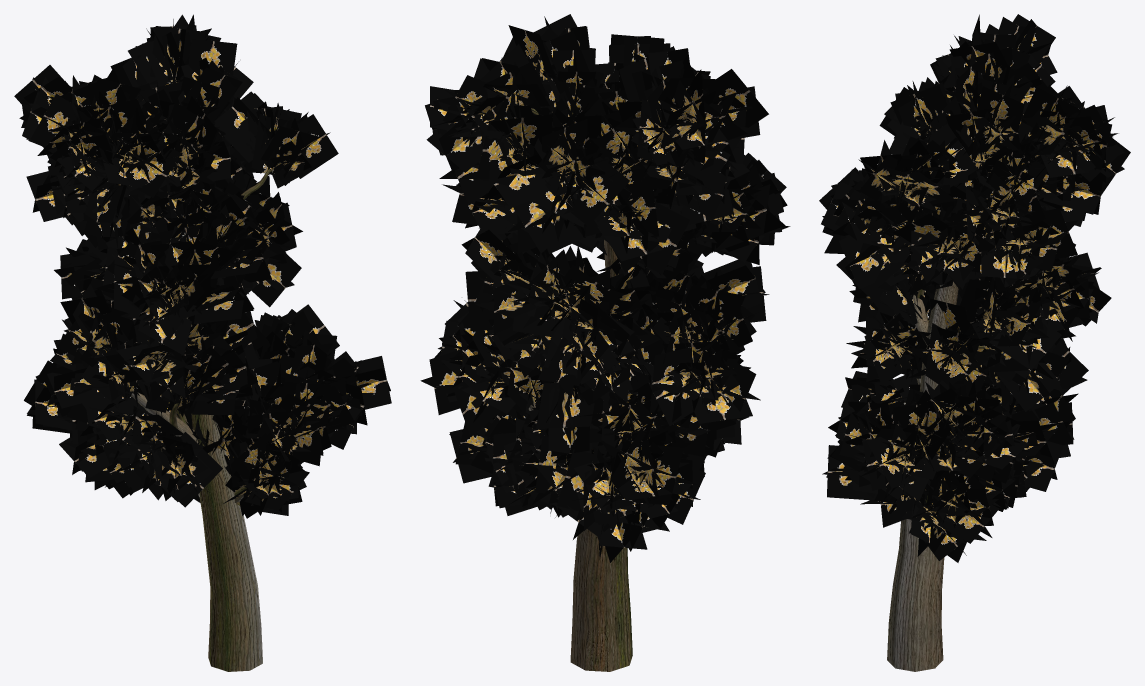
File: eztree-sugar-maple-stand-a.glb
3 views of the same model, side by side, from view 1: azimuth 30°, elevation 25°; view 2: azimuth 150°, elevation 25°; view 3: azimuth 270°, elevation 25° (orthographic). The views are drawn at different scales.
Parts seen in each view (by area): view 1: eztree-sugar-maple-stand-a; view 2: eztree-sugar-maple-stand-a; view 3: eztree-sugar-maple-stand-a.
Part boxes in pixels (<box>): eztree-sugar-maple-stand-a: <box>14,14,391,671</box>; eztree-sugar-maple-stand-a: <box>420,14,790,671</box>; eztree-sugar-maple-stand-a: <box>819,14,1130,671</box>.
Bounding box in the file's own units: 36.41 × 63.75 × 30.97.
2 materials, 2 textured.
